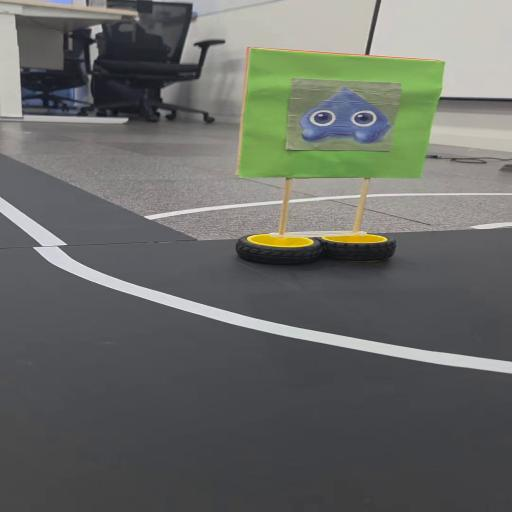Sign_B: (231, 43, 439, 268)
